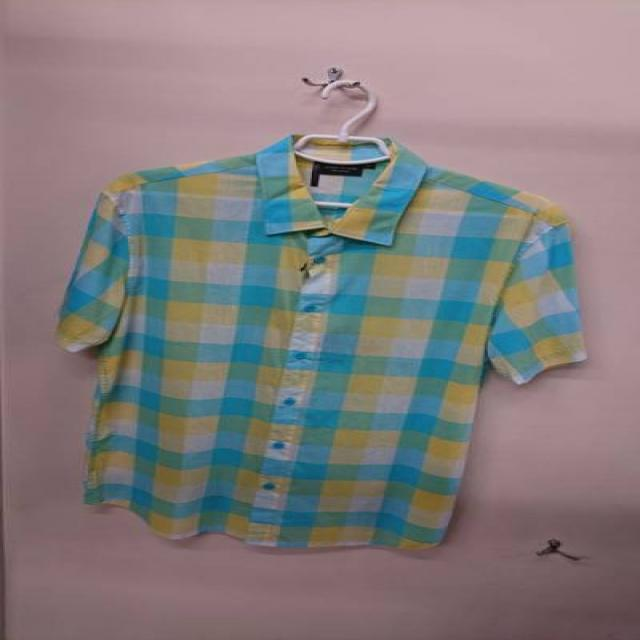Clothes -Biodegradable-: (55, 129, 591, 556)
